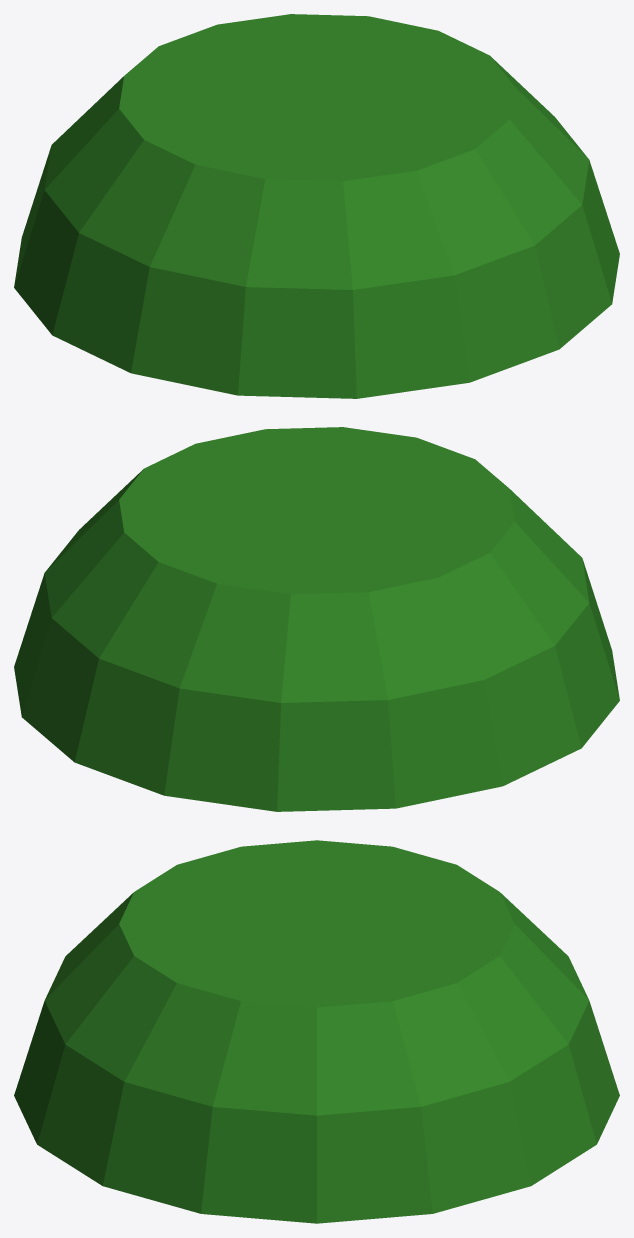
File: Turret0.glb
3 views of the same model, one above another, from view 1: azimuth 30°, elevation 25°; view 2: azimuth 150°, elevation 25°; view 3: azimuth 270°, elevation 25° (orthographic).
Visible parts, largest first — view 1: Turret0; view 2: Turret0; view 3: Turret0.
Boxes of the visible parts, x1=… form: Turret0: x1=14, y1=14, x2=619, y2=398; Turret0: x1=14, y1=427, x2=619, y2=811; Turret0: x1=14, y1=840, x2=619, y2=1223.
Size of the model in its own units: 0.2 by 0.0625 by 0.2.
